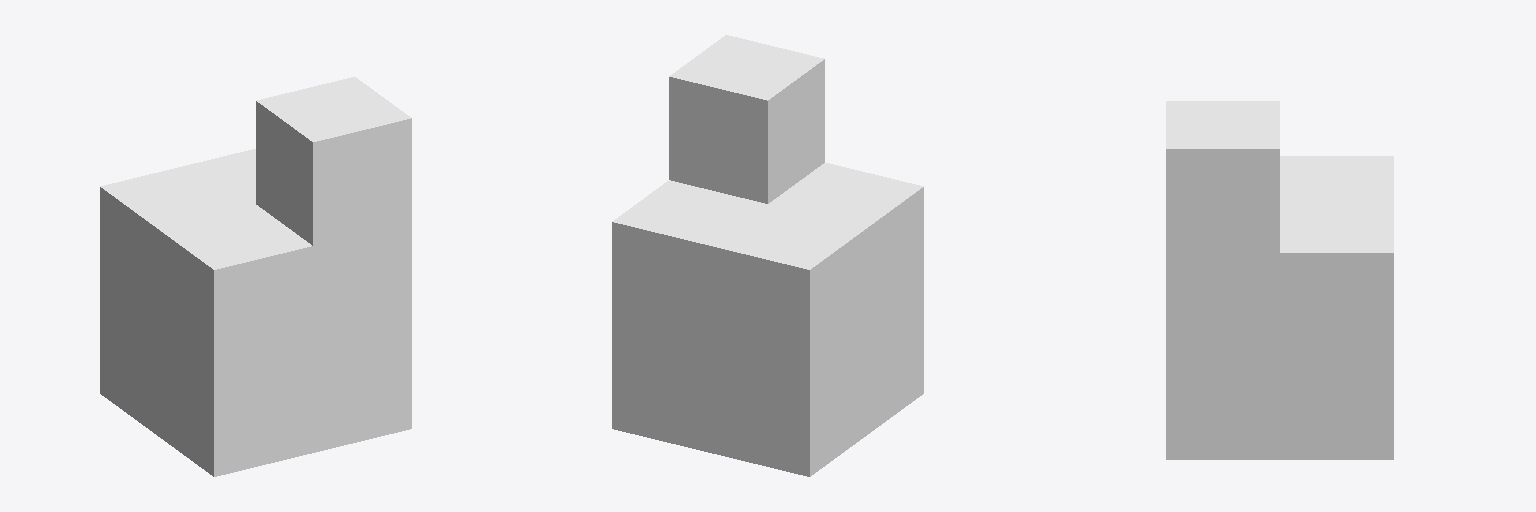
The model's file is gun:grenade.obj.
3 renders of one model, left to right at view 1: azimuth 30°, elevation 25°; view 2: azimuth 150°, elevation 25°; view 3: azimuth 270°, elevation 25°, orthographic.
Visible parts, largest first — view 1: gun:grenade; view 2: gun:grenade; view 3: gun:grenade.
Boxes of the visible parts, x1=… form: gun:grenade: x1=100, y1=77, x2=411, y2=476; gun:grenade: x1=612, y1=35, x2=923, y2=476; gun:grenade: x1=1166, y1=101, x2=1393, y2=459.
Size of the model in its own units: 2 by 3 by 2.